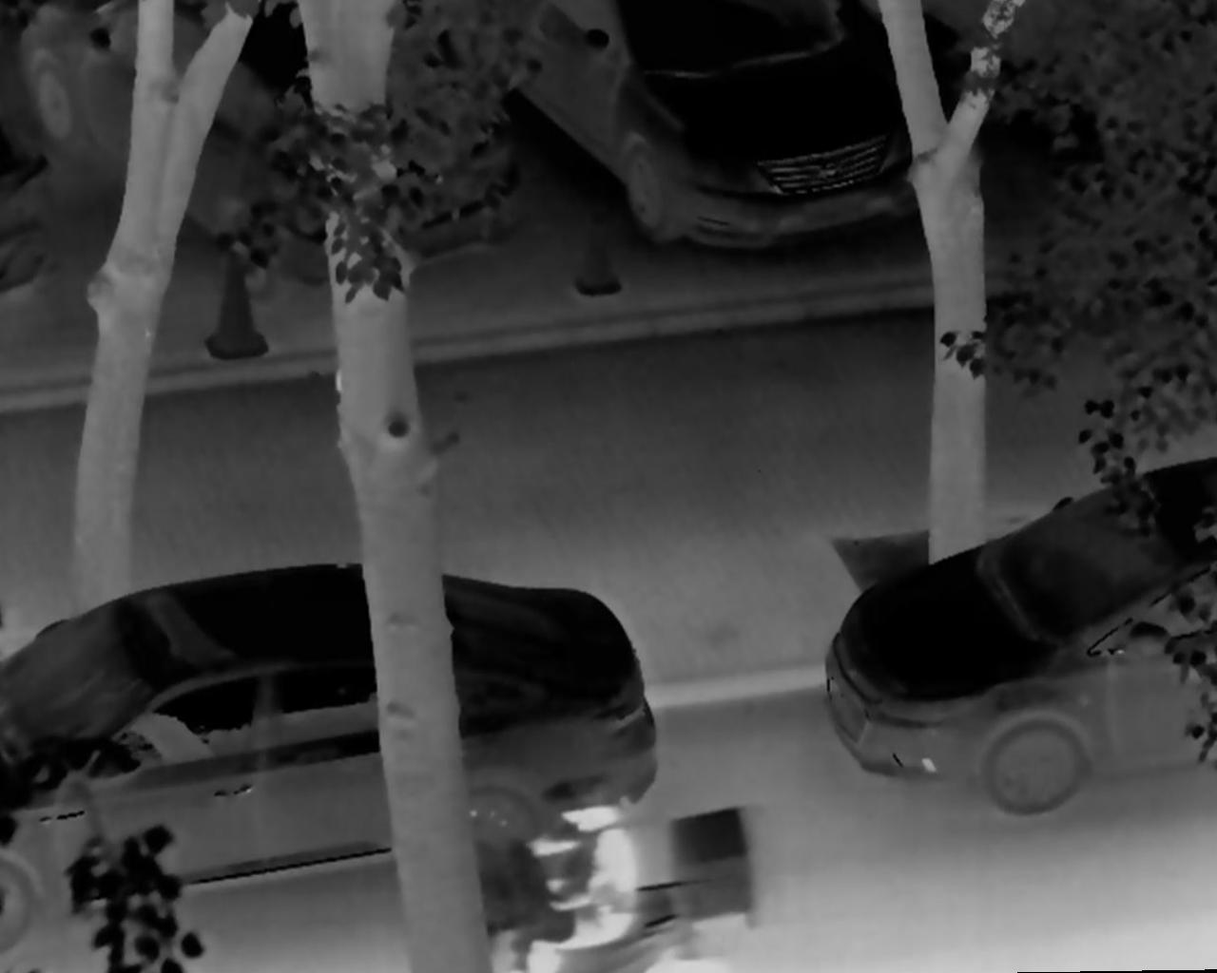person: (505, 769, 638, 973)
